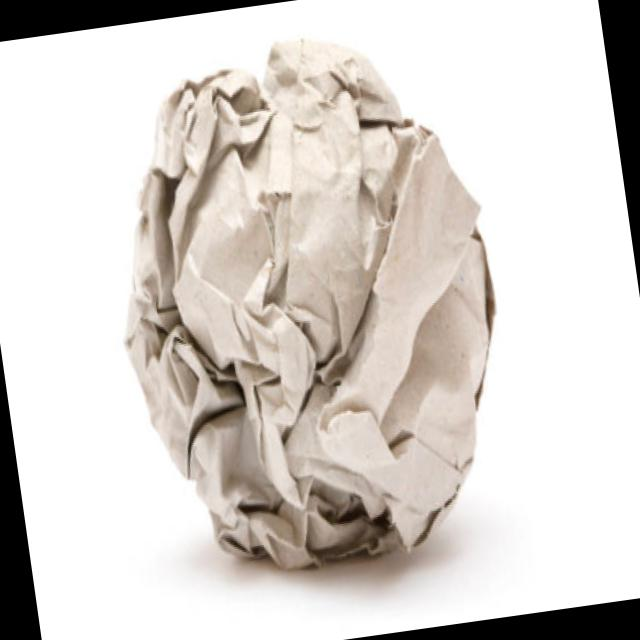KertasBekas: (85, 12, 532, 592)
